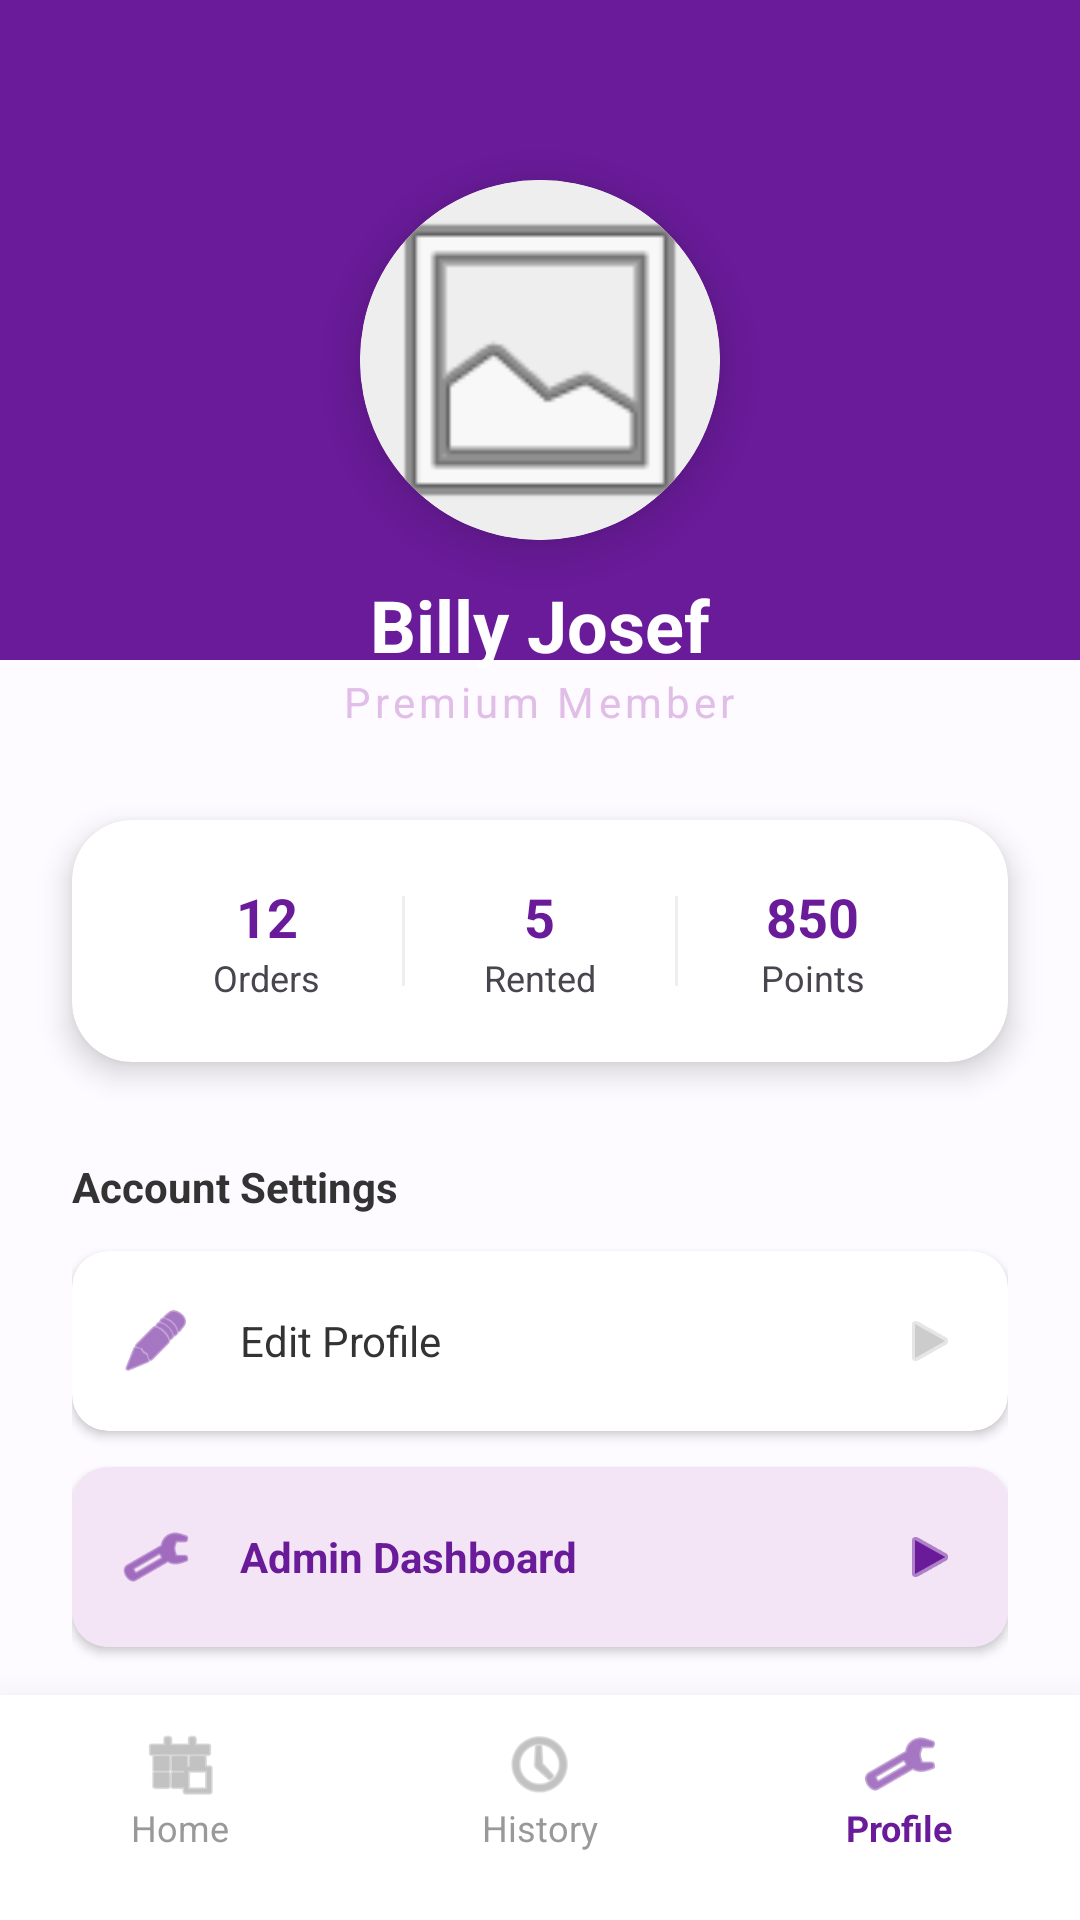

Screen size 1080 x 1920. Icon name, then its center in pixels as [x,y]:
gallery: [540,360]
manage: [156,1557], [900,1764]
play: [930,1341], [930,1557]
today: [180,1765]
